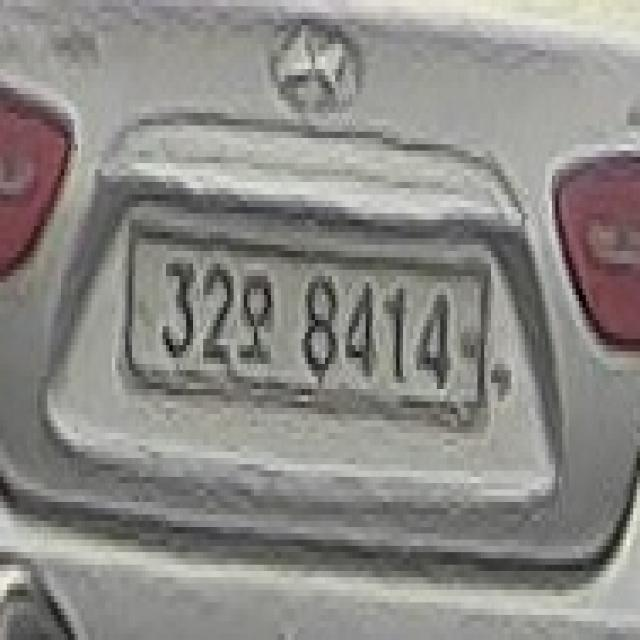1: (379, 282, 406, 383)
2: (200, 264, 233, 370)
3: (162, 251, 196, 370)
4: (413, 289, 454, 395), (342, 283, 376, 377)
8: (302, 270, 338, 383)
license_plate: (132, 226, 484, 414)
o: (234, 264, 274, 370)
